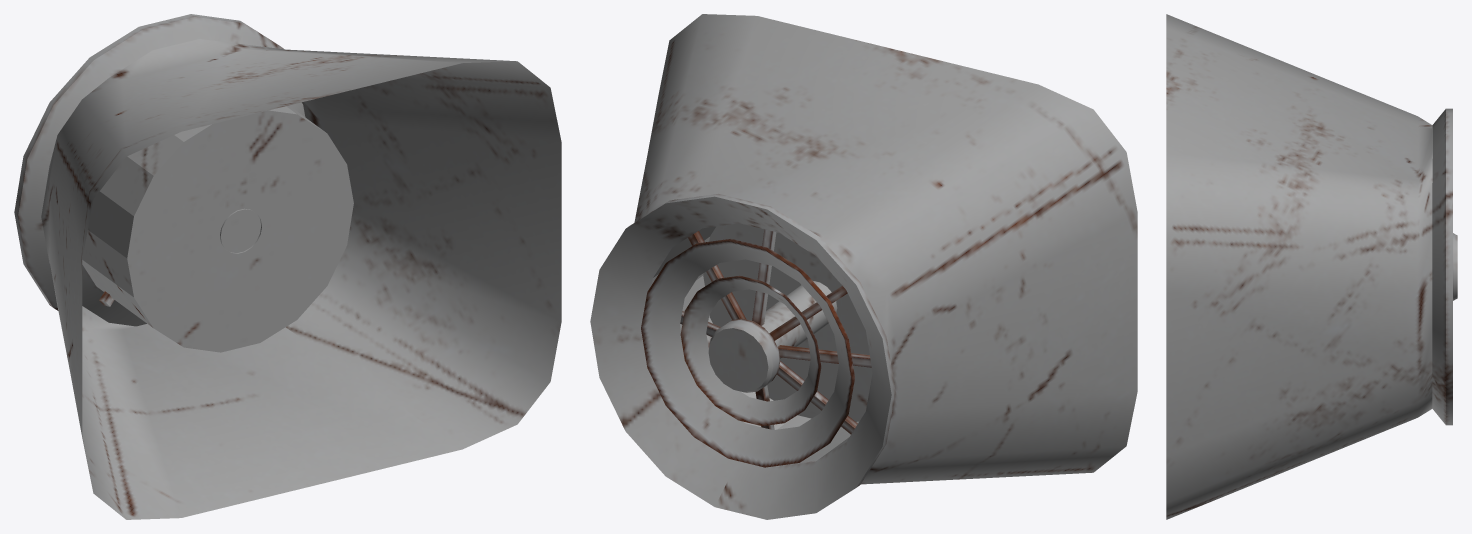
The model's file is Prop_Air_Ducts_x3.fbx.
3 views of the same model, side by side, from view 1: azimuth 30°, elevation 25°; view 2: azimuth 150°, elevation 25°; view 3: azimuth 270°, elevation 25° (orthographic). The views are drawn at different scales.
Visible parts, largest first — view 1: Prop_Air_Ducts_x3; view 2: Prop_Air_Ducts_x3; view 3: Prop_Air_Ducts_x3.
Part boxes in pixels (<box>): Prop_Air_Ducts_x3: <box>14,14,561,519</box>; Prop_Air_Ducts_x3: <box>590,14,1137,519</box>; Prop_Air_Ducts_x3: <box>1166,14,1457,519</box>.
Bounding box in the file's own units: 32.02 × 24.67 × 18.46.
